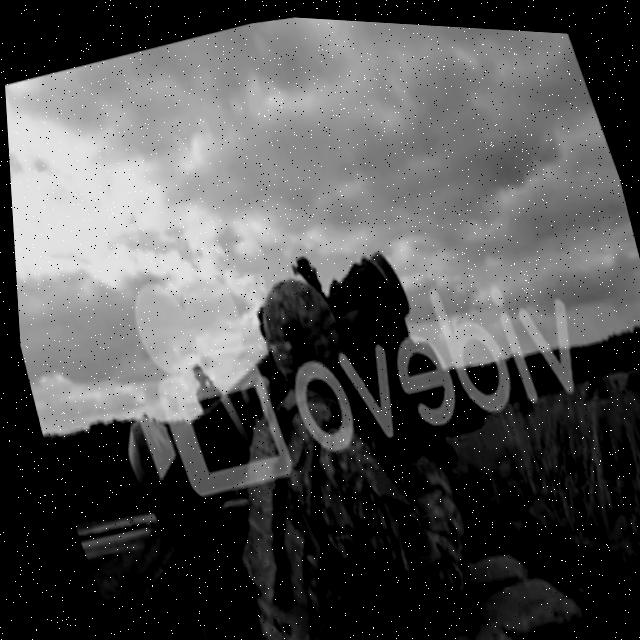rocket: (66, 217, 480, 584)
